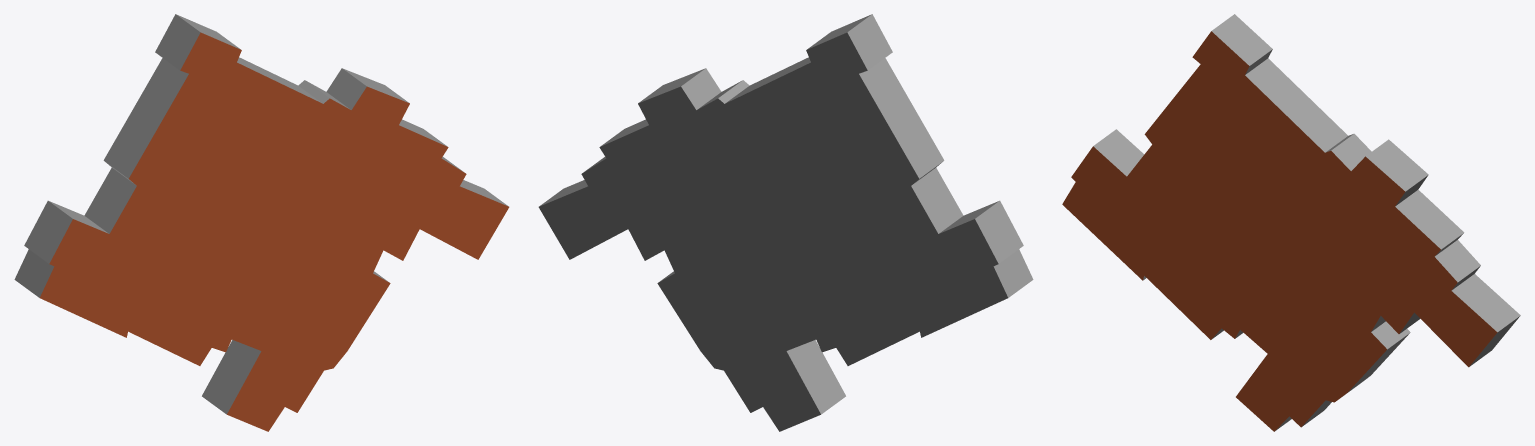
File: construction_4027_assumed_A_Casa_h6m.obj
The picture shows the model from 3 angles, left to right: view 1: azimuth 30°, elevation 25°; view 2: azimuth 150°, elevation 25°; view 3: azimuth 330°, elevation 25°; orthographic projection. The views are drawn at different scales.
Parts seen in each view (by area): view 1: construction_4027_assumed_A_Casa; view 2: construction_4027_assumed_A_Casa; view 3: construction_4027_assumed_A_Casa.
Boxes of the visible parts, box(x1,y1,x2,y2) form: construction_4027_assumed_A_Casa: box(14, 14, 509, 431); construction_4027_assumed_A_Casa: box(538, 14, 1033, 431); construction_4027_assumed_A_Casa: box(1062, 14, 1520, 431).
Bounding box in the file's own units: 64.72 × 54.77 × 6.
